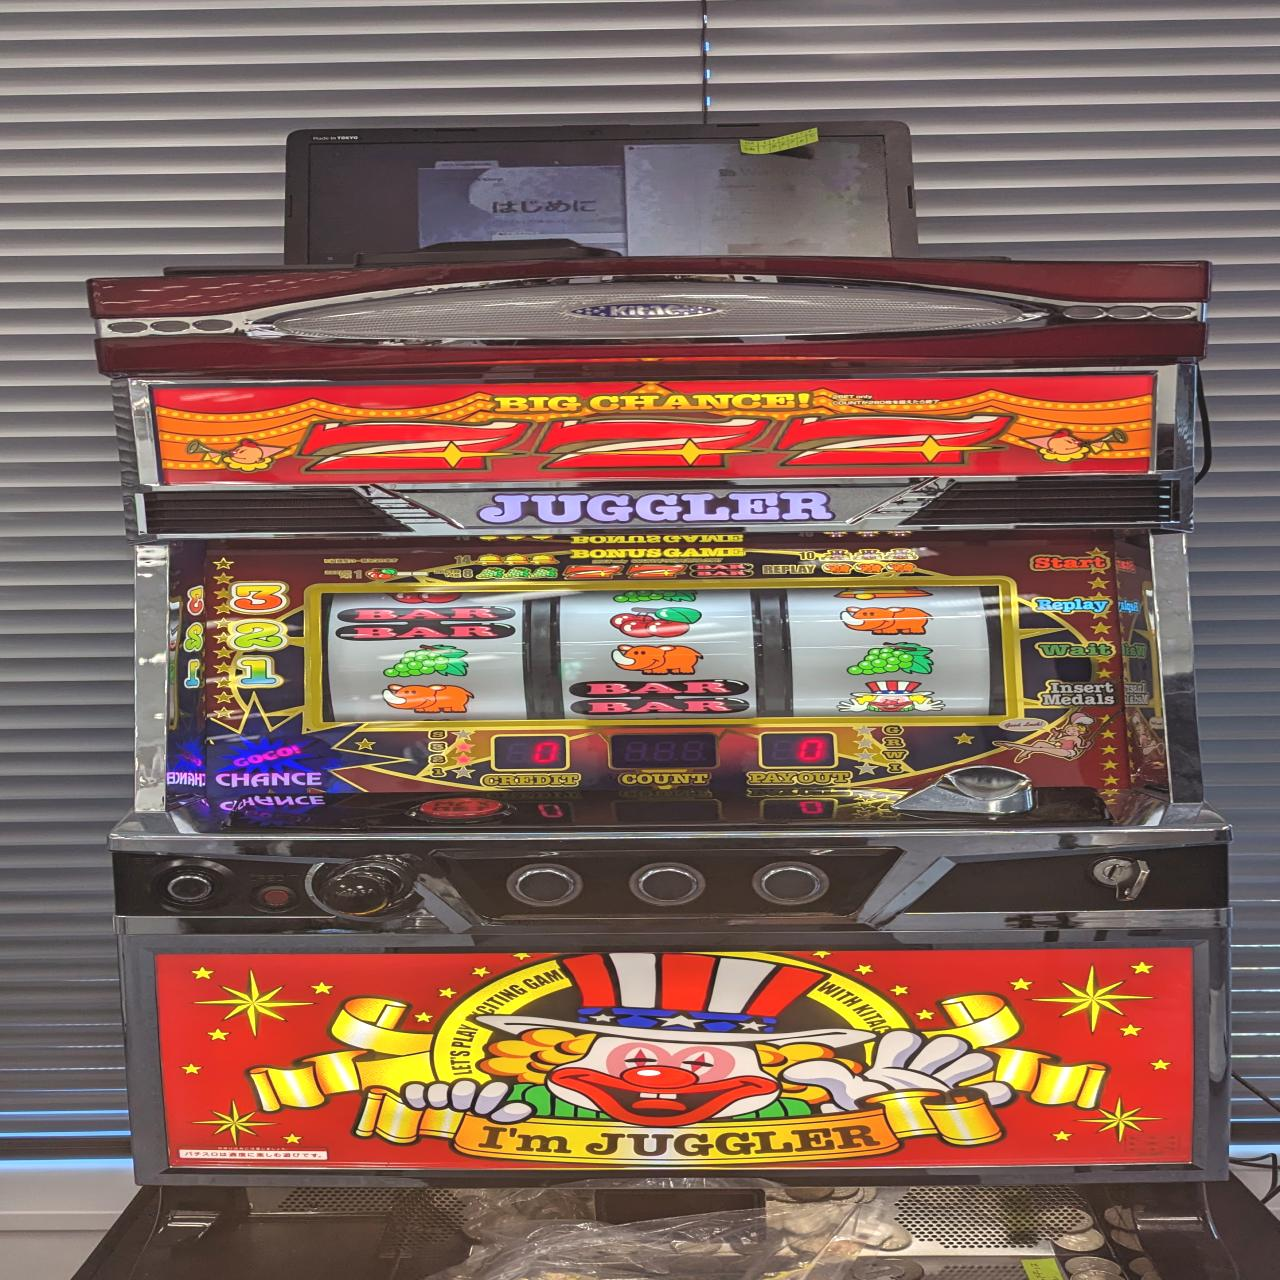8: (610, 644, 704, 676), (837, 605, 935, 635), (381, 683, 478, 714)
Display: (309, 585, 1019, 723)
bar: (570, 679, 749, 715), (334, 607, 515, 641)
cherry: (610, 606, 704, 635)
clown: (835, 680, 946, 715)
grape: (845, 641, 939, 676), (383, 644, 471, 680)
